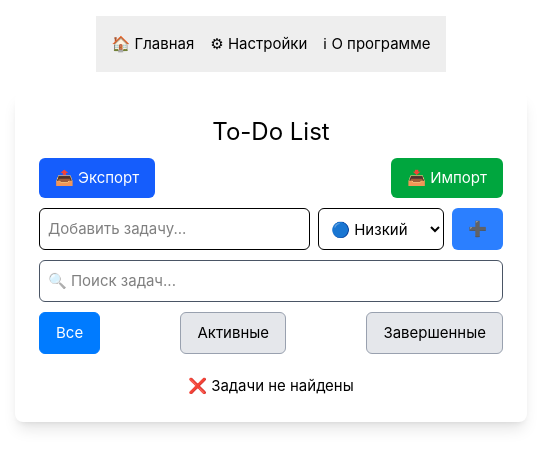
Test: To-Do App › Добавляет новую задачу
This screenshot has width=543, height=462.
Type "Купить молоко" into the field with test id "task-input" at (175, 229), box [39,208,310,250]
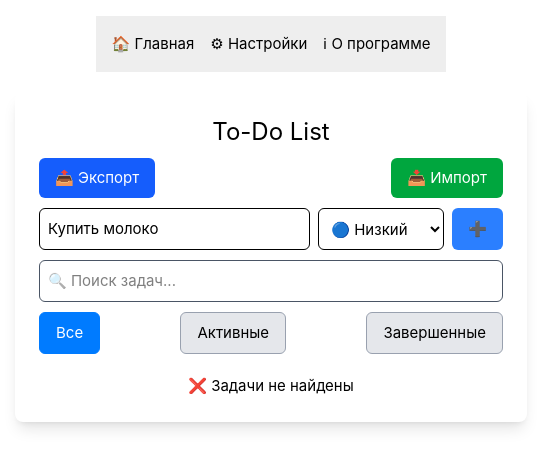
Click the button with test id "add-task__btn" at (478, 229), box [452,208,503,250]
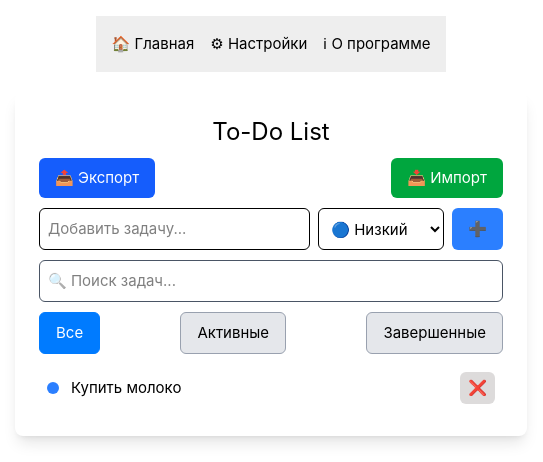
Result: the text "Купить молоко" is shown at [71,376,181,400]
